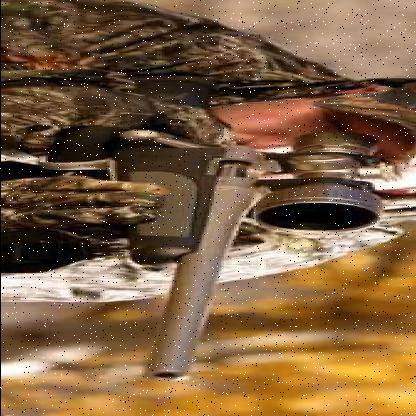rifle: (69, 66, 376, 386)
